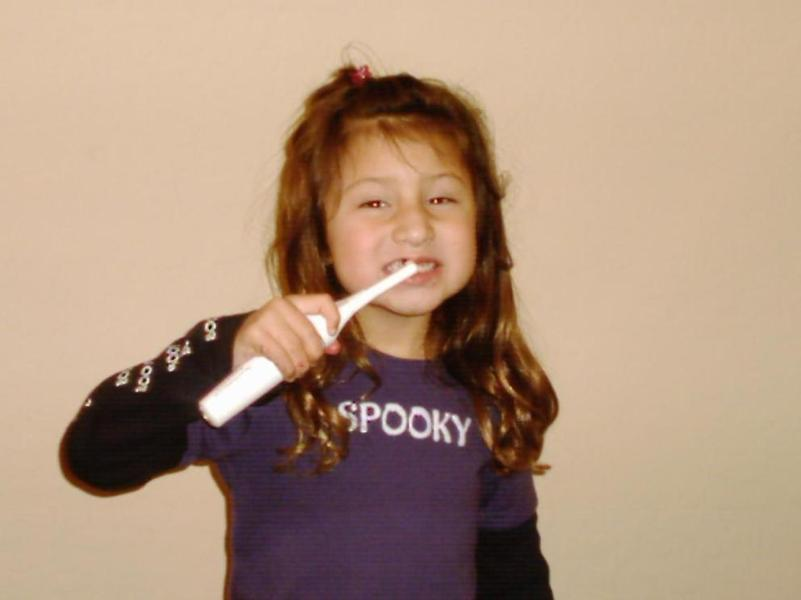person: (61, 69, 556, 598)
